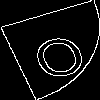O: (24, 25, 91, 82)
